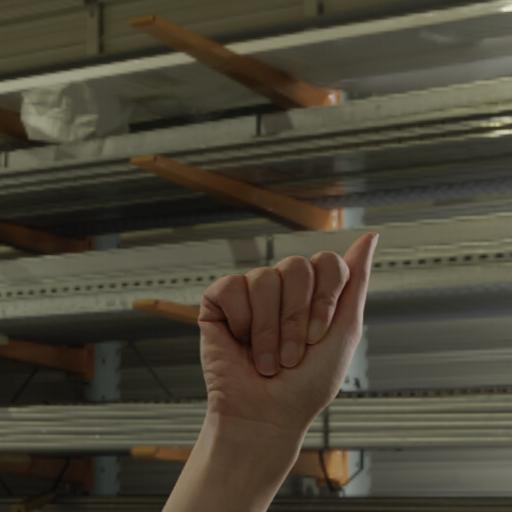A: (168, 228, 393, 512)
